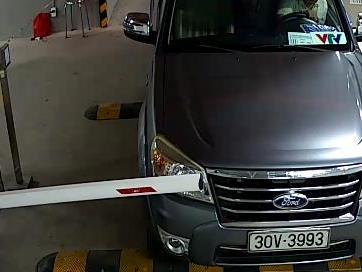number: (247, 229, 332, 253)
